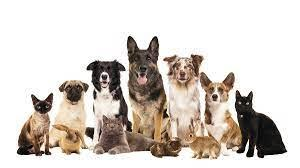cat: (234, 90, 289, 159), (14, 92, 53, 157), (92, 120, 151, 158), (185, 134, 225, 164)
dog: (131, 37, 167, 122), (169, 54, 205, 132), (86, 59, 128, 116), (201, 73, 234, 133), (56, 80, 90, 125), (55, 128, 87, 154), (154, 139, 183, 157)
